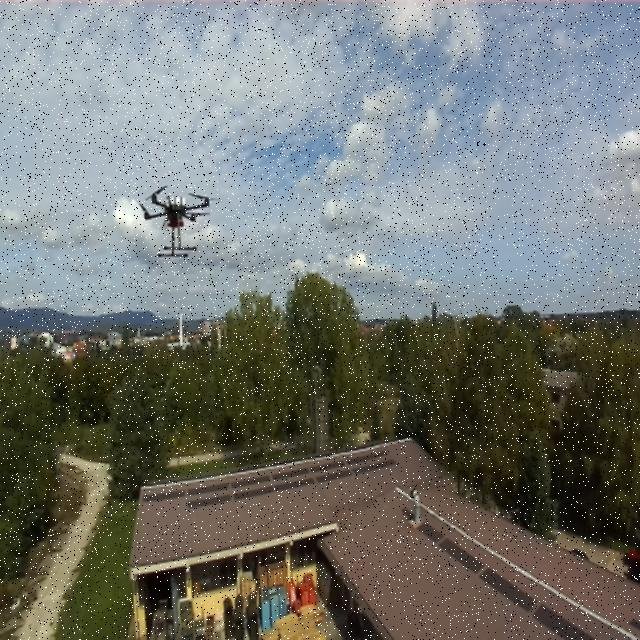UAV: (134, 179, 216, 265)
